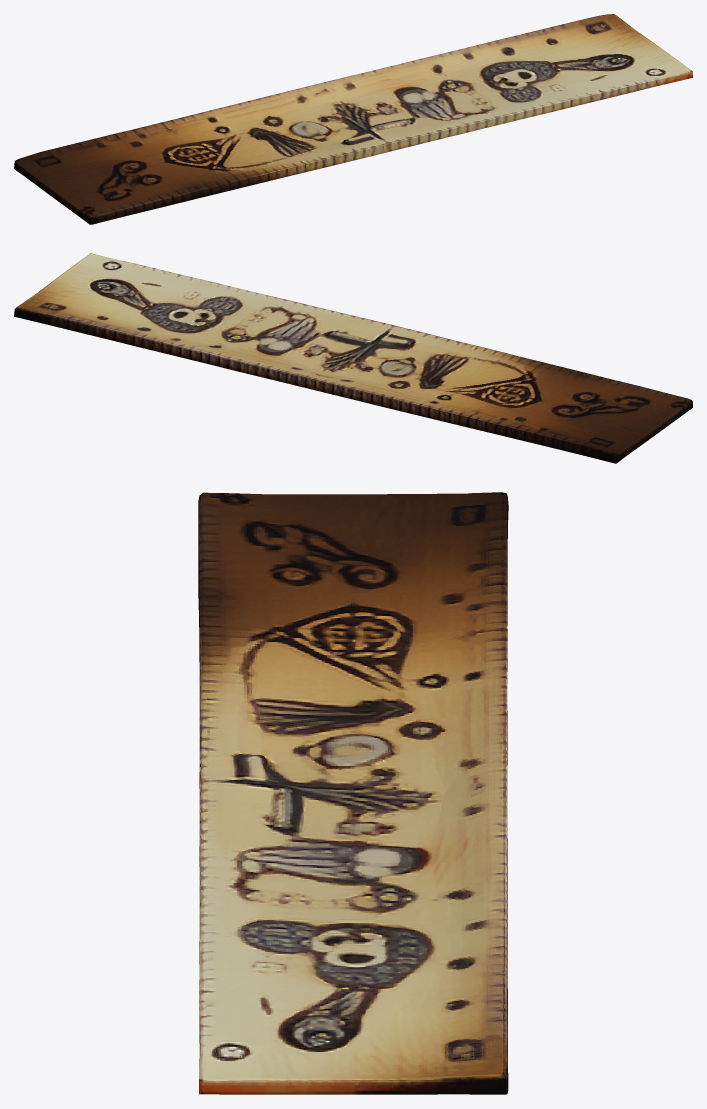
Rendered from wooden-ruler-horror.jpeg.glb.
The picture shows the model from 3 angles, top to bottom: view 1: azimuth 30°, elevation 25°; view 2: azimuth 150°, elevation 25°; view 3: azimuth 270°, elevation 25°; orthographic projection. The views are drawn at different scales.
Parts seen in each view (by area): view 1: world; view 2: world; view 3: world.
Part boxes in pixels (x1,y1,x2,y2): world: (14,14,692,224); world: (14,253,692,463); world: (198,492,508,1094).
Size of the model in its own units: 0.9947 by 0.0189 by 0.2217.
Materials: 1 (1 with a texture image).
